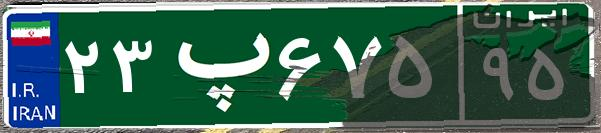2: (57, 26, 110, 107)
3: (110, 28, 158, 105)
5: (385, 28, 445, 110), (525, 38, 570, 115)
6: (273, 28, 330, 110)
7: (330, 28, 385, 110)
9: (475, 38, 525, 113)
پ: (158, 15, 273, 115)
